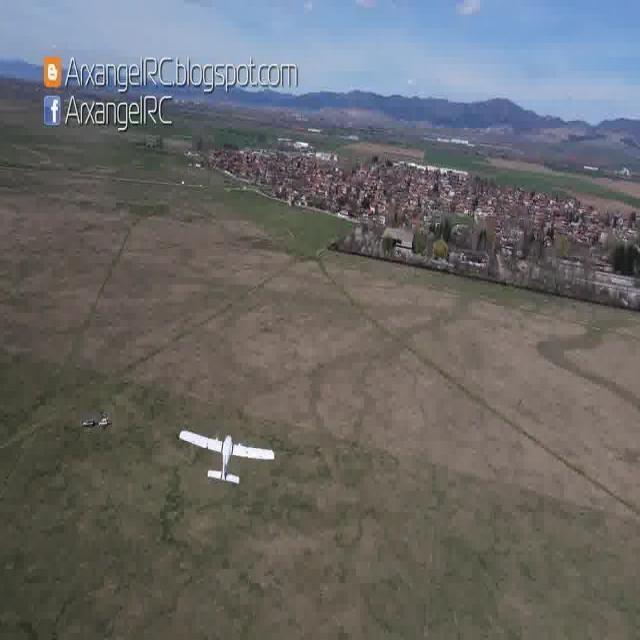iha: (209, 449, 245, 451)
